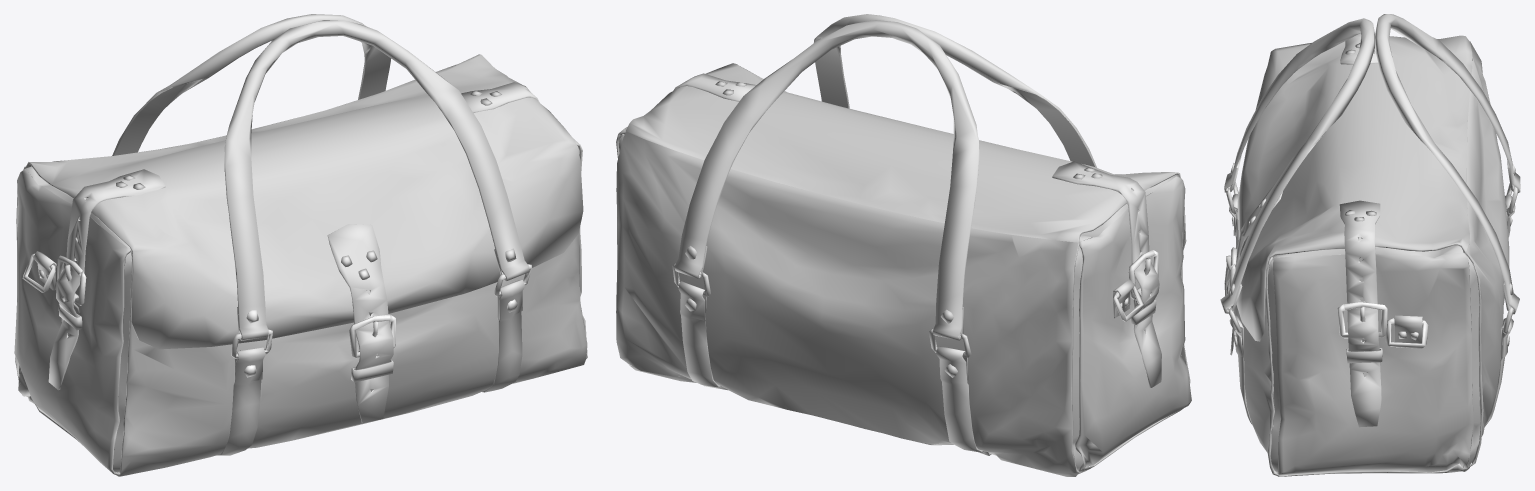
Rendered from Suitecase3.fbx.
The picture shows the model from 3 angles, left to right: view 1: azimuth 30°, elevation 25°; view 2: azimuth 150°, elevation 25°; view 3: azimuth 270°, elevation 25°; orthographic projection. The views are drawn at different scales.
Visible parts, largest first — view 1: Suitecase3; view 2: Suitecase3; view 3: Suitecase3.
Part boxes in pixels (x1,y1,x2,y2): Suitecase3: [14, 14, 587, 476]; Suitecase3: [616, 14, 1191, 476]; Suitecase3: [1220, 14, 1520, 476].
Bounding box in the file's own units: 94.01 × 65.29 × 51.2.
